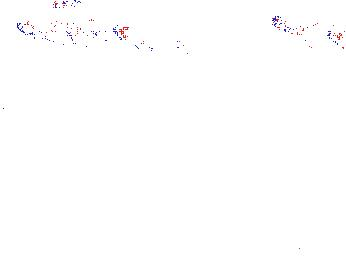X-ray fish: (188, 99, 229, 122)
red belly glassfish: (51, 1, 77, 11)
redtail glassfish: (15, 15, 80, 51), (268, 15, 340, 46), (65, 17, 128, 41), (133, 32, 189, 59)
